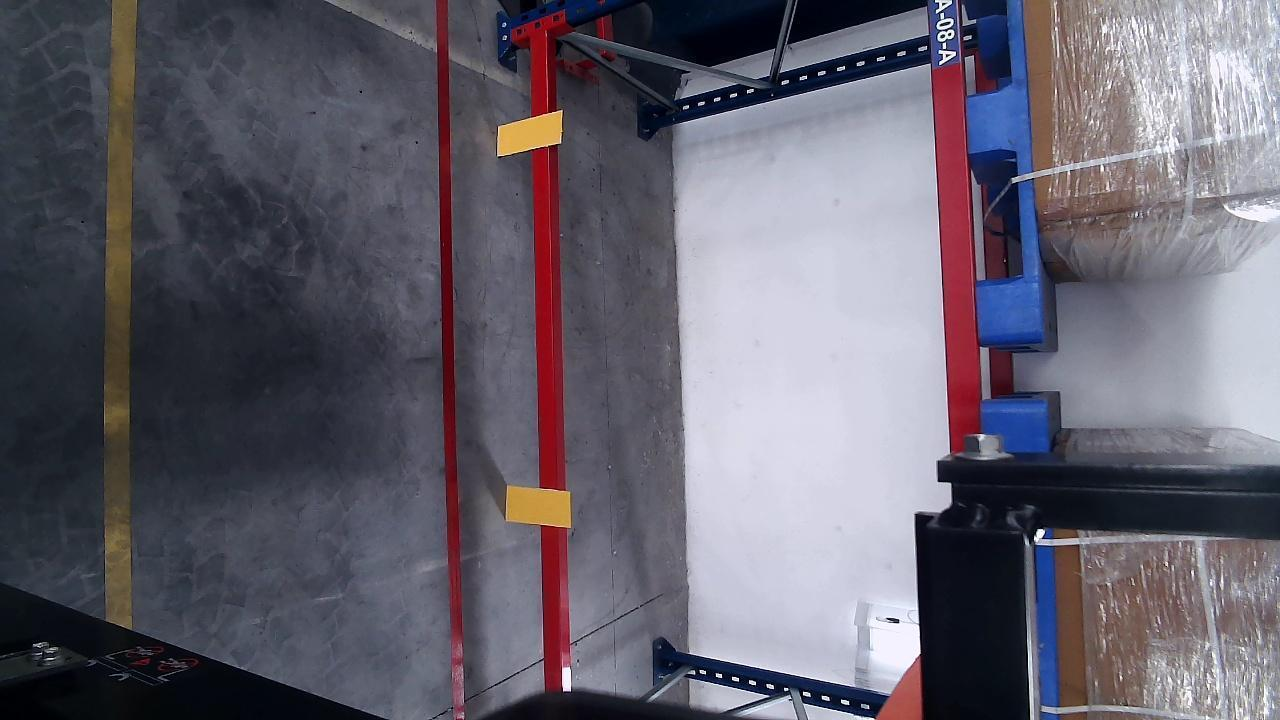red_line: (435, 0, 467, 717)
yellow_line: (101, 1, 141, 626)
